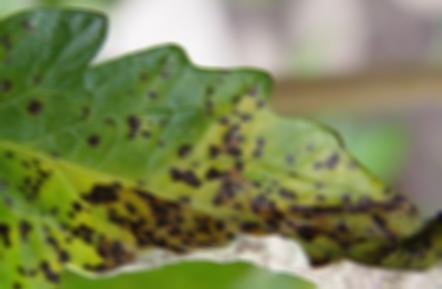Tomato Septoria leaf spot: (0, 1, 442, 289)
